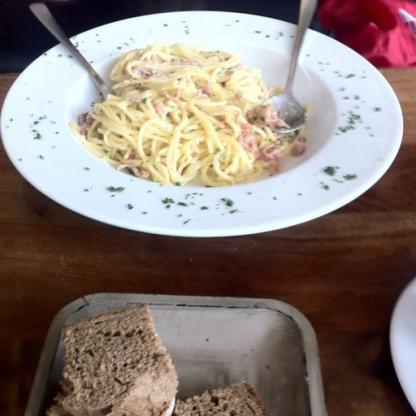Noodles: (69, 41, 312, 187)
